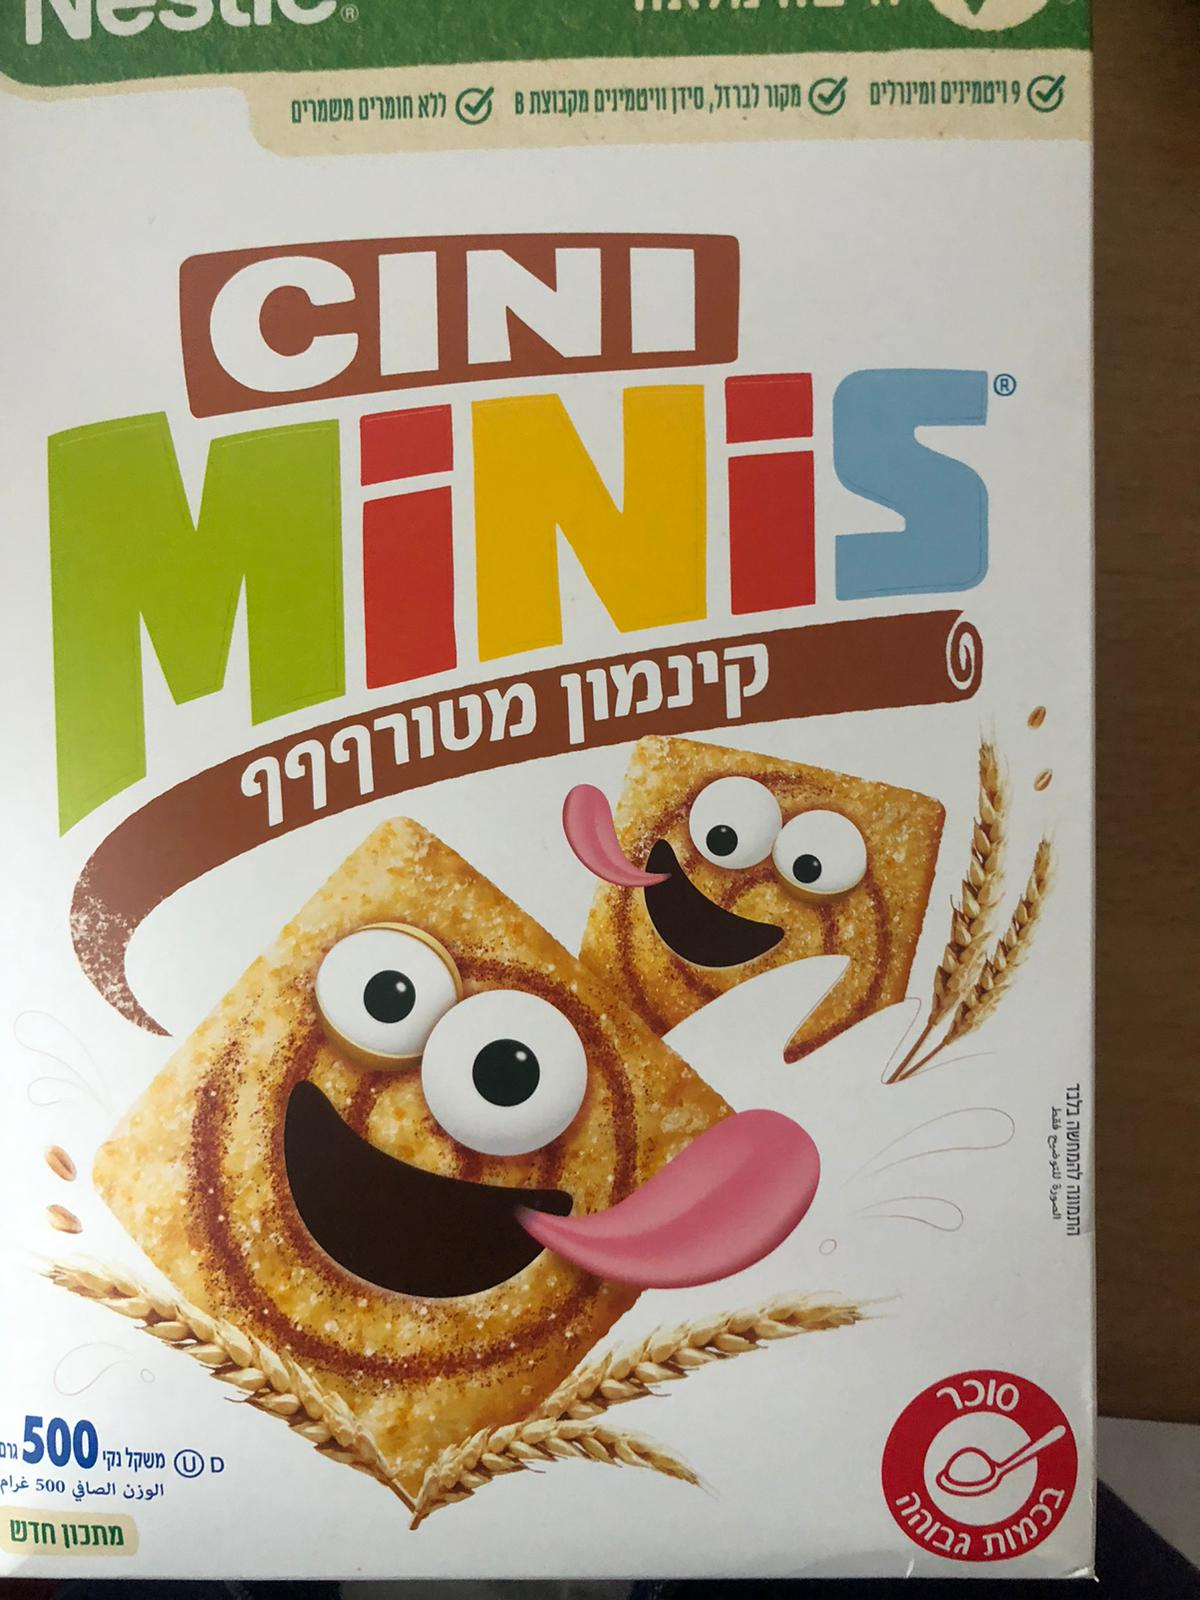sugar: (884, 1368, 1079, 1565)
